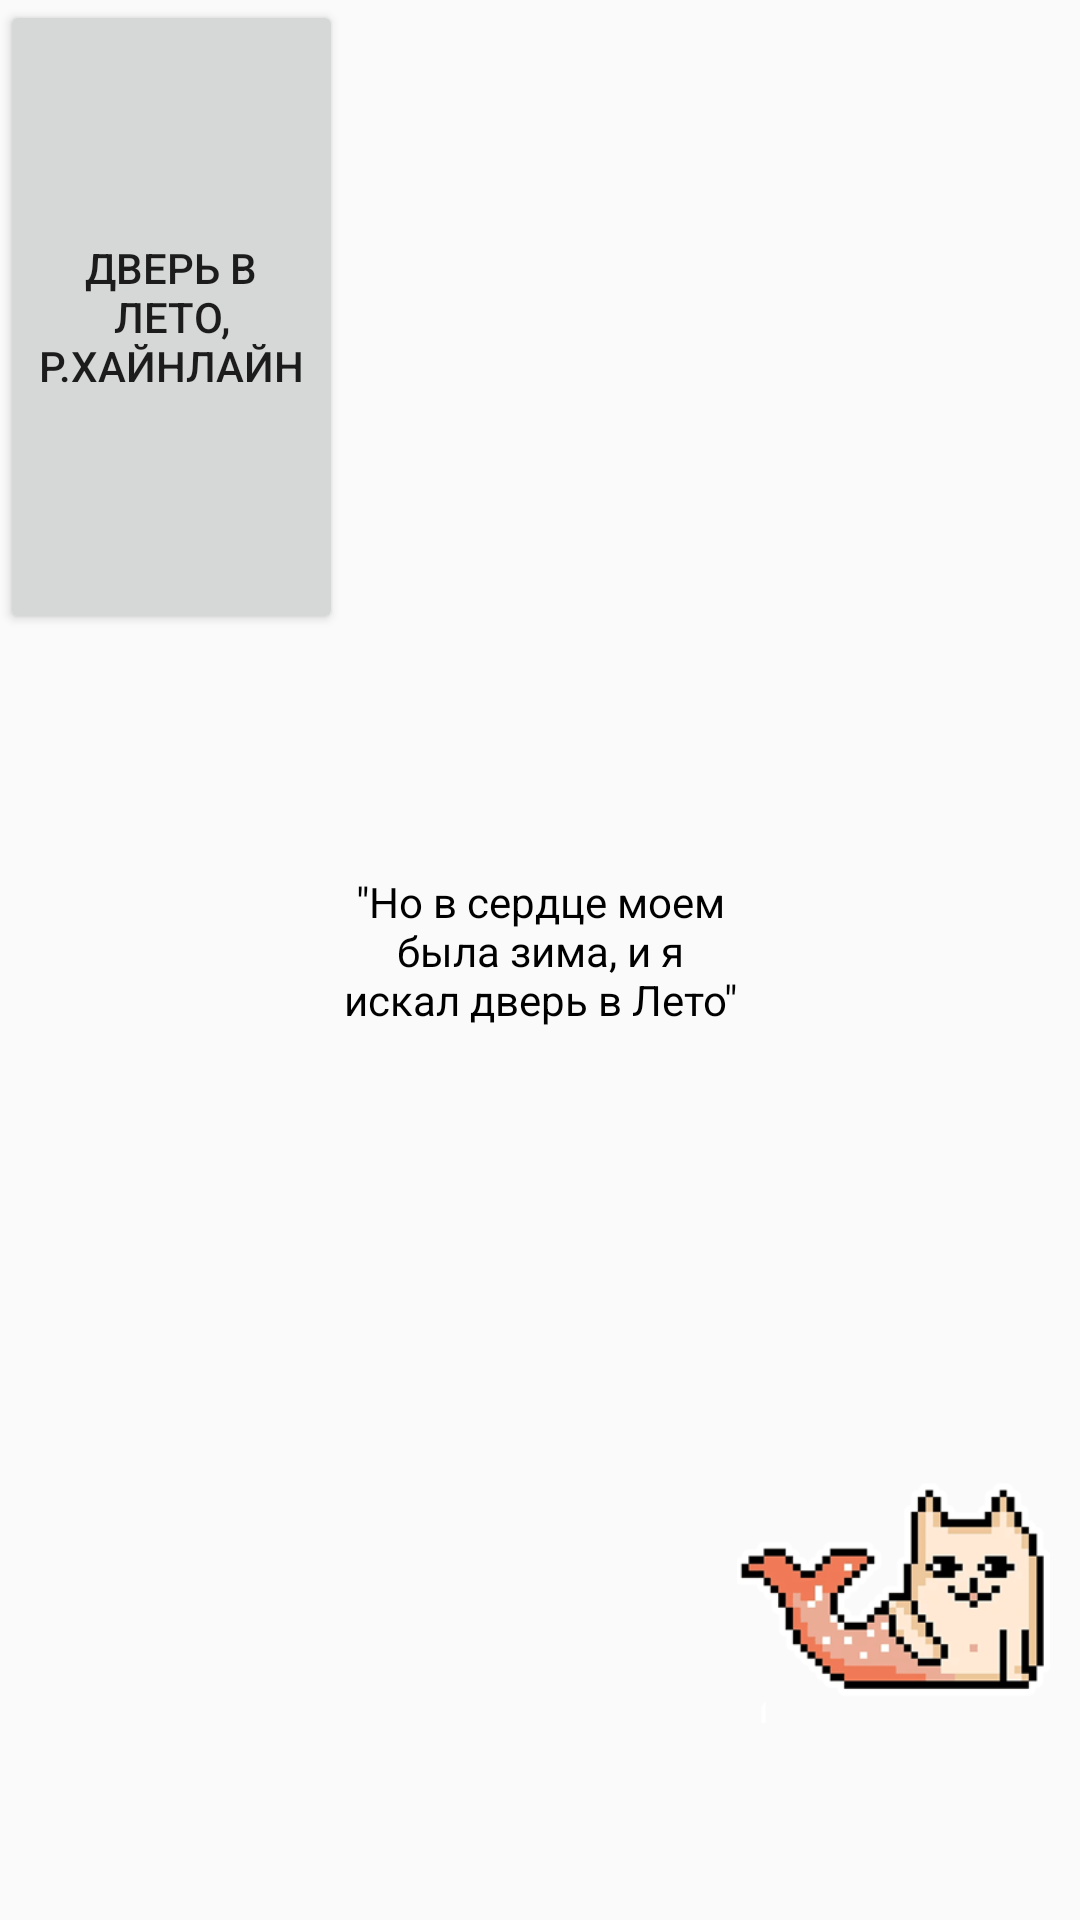

Icon bounding boxes for this 1080*1920 phone screenshot, format (x1, y1, x2, y2):
catm: (740, 1489, 1044, 1689)
